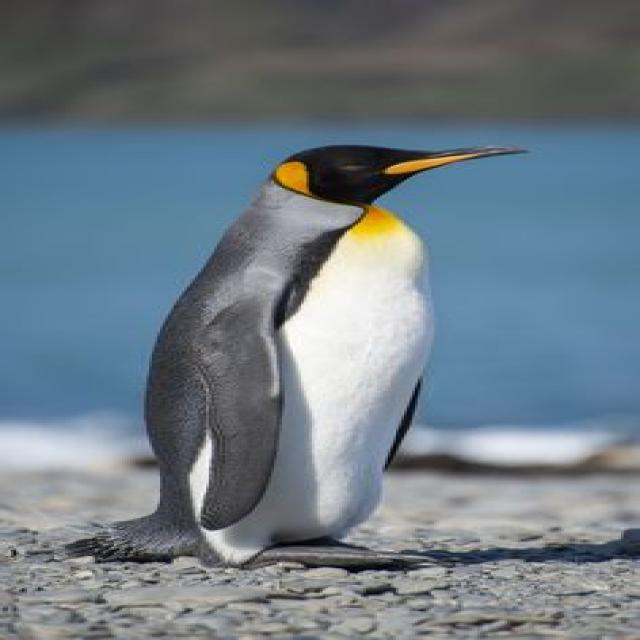Carnivorous: (108, 145, 526, 570)
